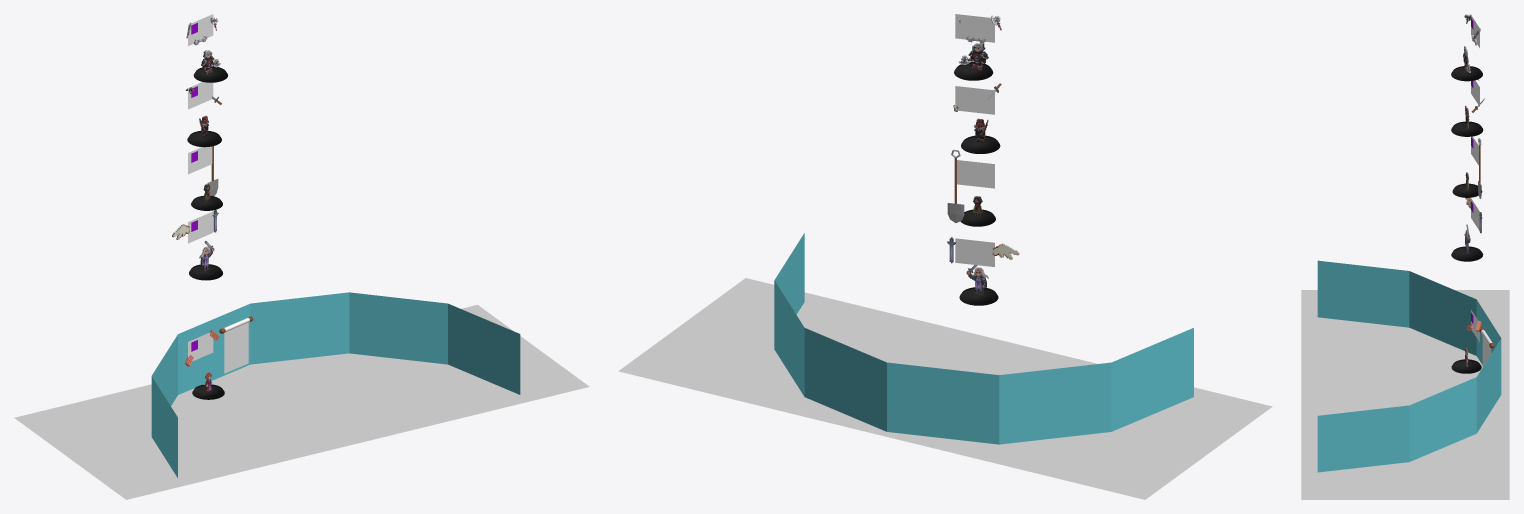
File: Character selection.glb
3 views of the same model, side by side, from view 1: azimuth 30°, elevation 25°; view 2: azimuth 150°, elevation 25°; view 3: azimuth 270°, elevation 25° (orthographic). The views are drawn at different scales.
Visible parts, largest first — view 1: Floor, Pantalla, Scroll, Stat sheet.001, Dick, Samael; view 2: Floor, Pantalla, Stat sheet.001, Stat sheet dick, Stat sheet salvador, Dick, Stat sheet Edgar, Samael, Salvador; view 3: Floor, Pantalla, Samael, Dick, Salvador, Lystra, Edgar, Scroll, Stat sheet.001, Stat sheet dick.
Part boxes in pixels (bbox=[...]): Floor: bbox=[14, 305, 589, 499]; Pantalla: bbox=[151, 292, 520, 477]; Scroll: bbox=[219, 316, 253, 373]; Stat sheet.001: bbox=[172, 210, 218, 243]; Dick: bbox=[193, 50, 227, 82]; Samael: bbox=[189, 241, 222, 280]; Floor: bbox=[618, 278, 1272, 499]; Pantalla: bbox=[774, 233, 1193, 444]; Stat sheet.001: bbox=[947, 237, 1019, 266]; Stat sheet dick: bbox=[955, 14, 1001, 43]; Stat sheet salvador: bbox=[953, 83, 1001, 114]; Dick: bbox=[954, 43, 993, 80]; Stat sheet Edgar: bbox=[957, 160, 994, 188]; Samael: bbox=[959, 265, 998, 305]; Salvador: bbox=[961, 118, 1000, 153]; Floor: bbox=[1301, 290, 1509, 499]; Pantalla: bbox=[1317, 260, 1501, 472]; Samael: bbox=[1451, 224, 1483, 261]; Dick: bbox=[1451, 46, 1482, 81]; Salvador: bbox=[1451, 105, 1483, 136]; Lystra: bbox=[1451, 348, 1481, 373]; Edgar: bbox=[1452, 172, 1482, 197]; Scroll: bbox=[1479, 328, 1494, 366]; Stat sheet.001: bbox=[1465, 197, 1482, 233]; Stat sheet dick: bbox=[1464, 14, 1480, 47].
Size of the model in its own units: 144 by 119 by 60.4.
Materials: 43 (10 with a texture image).
